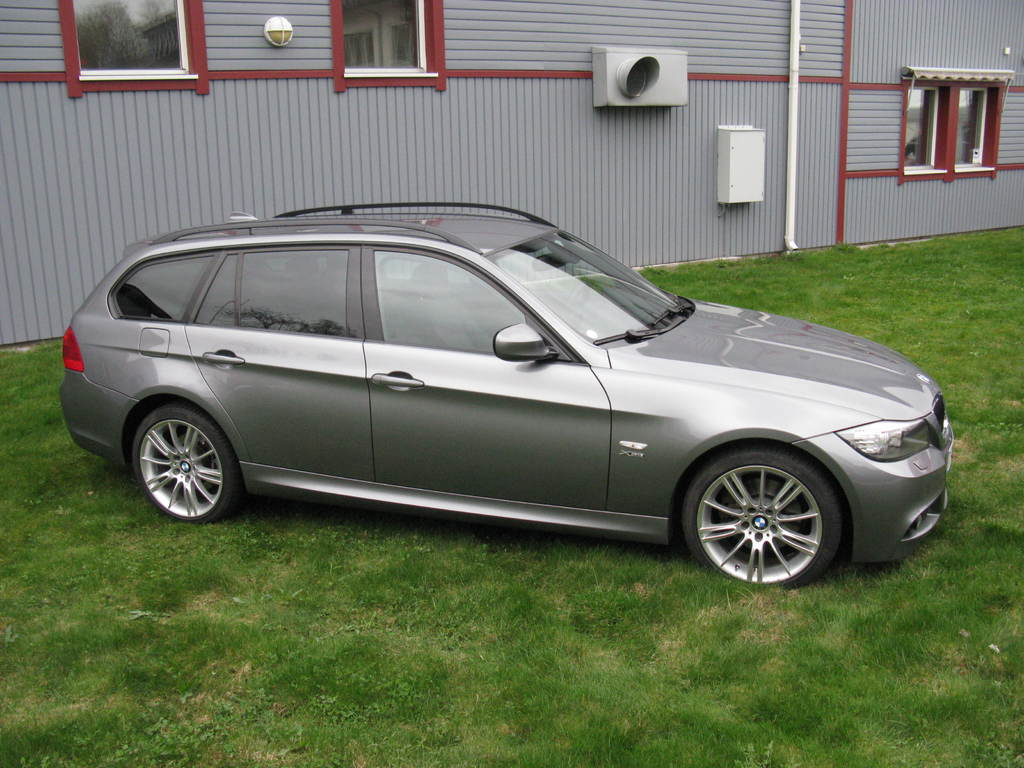Car: (46, 213, 981, 583)
